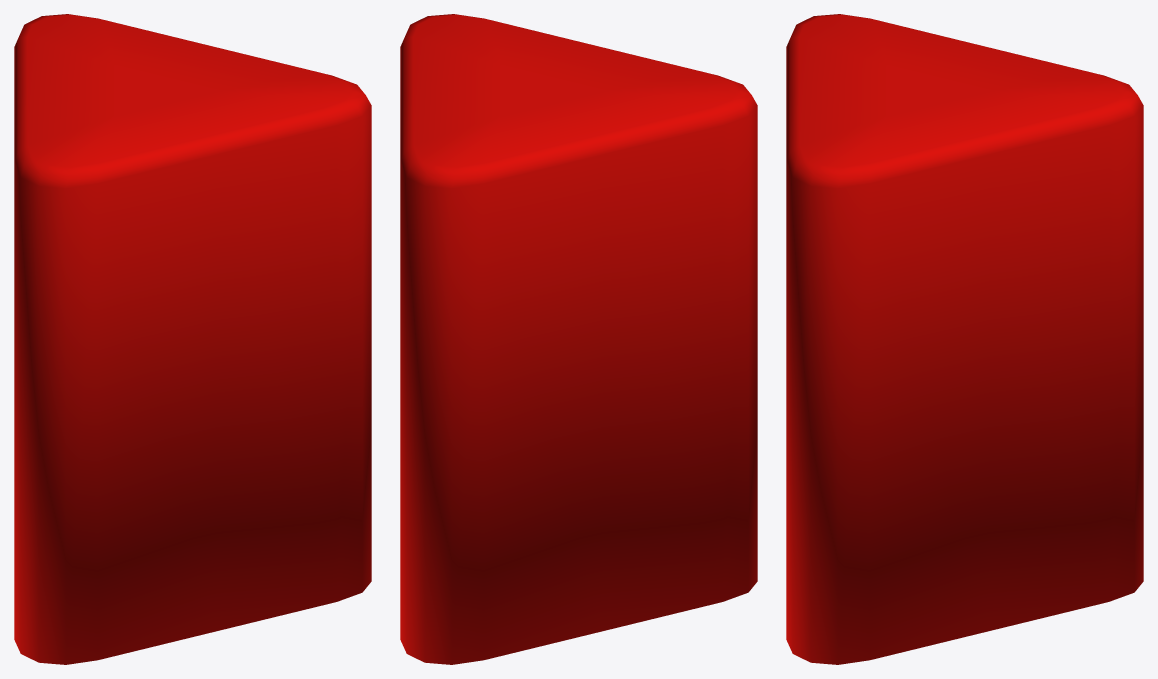
File: TriangleButtonTop.fbx
3 renders of one model, left to right at view 1: azimuth 30°, elevation 25°; view 2: azimuth 150°, elevation 25°; view 3: azimuth 270°, elevation 25°, orthographic.
Parts seen in each view (by area): view 1: TriangleButtonTop; view 2: TriangleButtonTop; view 3: TriangleButtonTop.
Boxes of the visible parts, x1,y1,x2,y2 form: TriangleButtonTop: [14, 14, 371, 664]; TriangleButtonTop: [400, 14, 757, 664]; TriangleButtonTop: [786, 14, 1143, 664].
Bounding box in the file's own units: 146 × 200 × 132.
